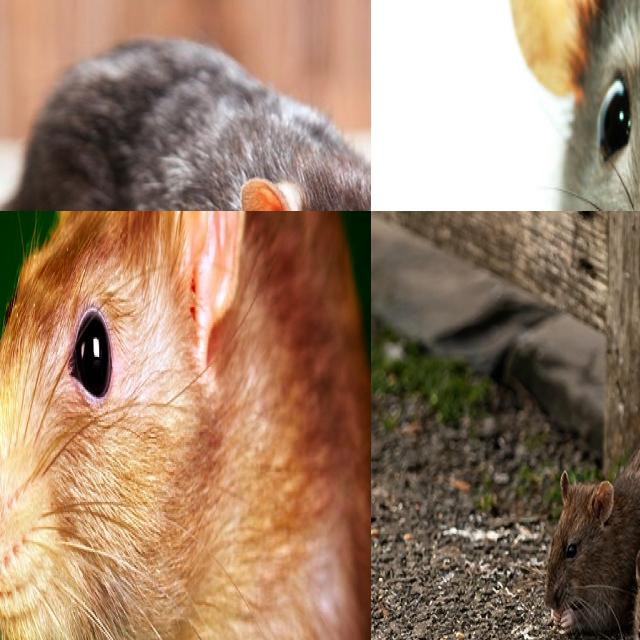rat: (0, 211, 371, 640), (19, 35, 371, 211), (504, 0, 640, 211)
